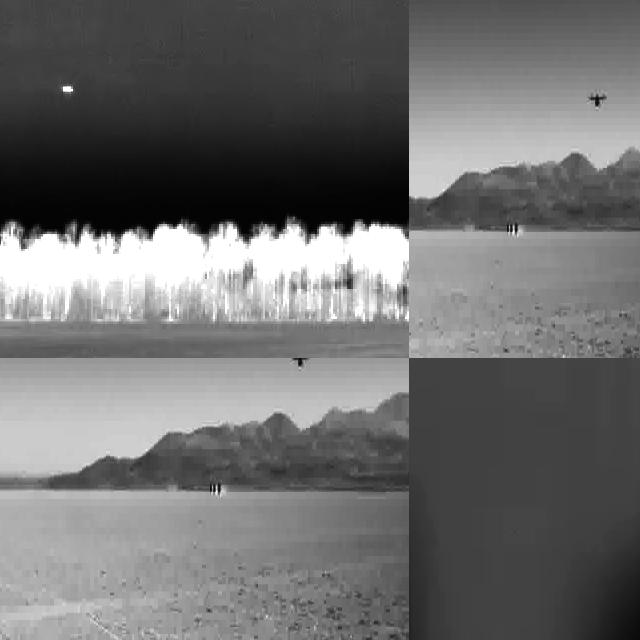1: (56, 79, 86, 101)
drone: (584, 88, 606, 116), (287, 358, 309, 375)
